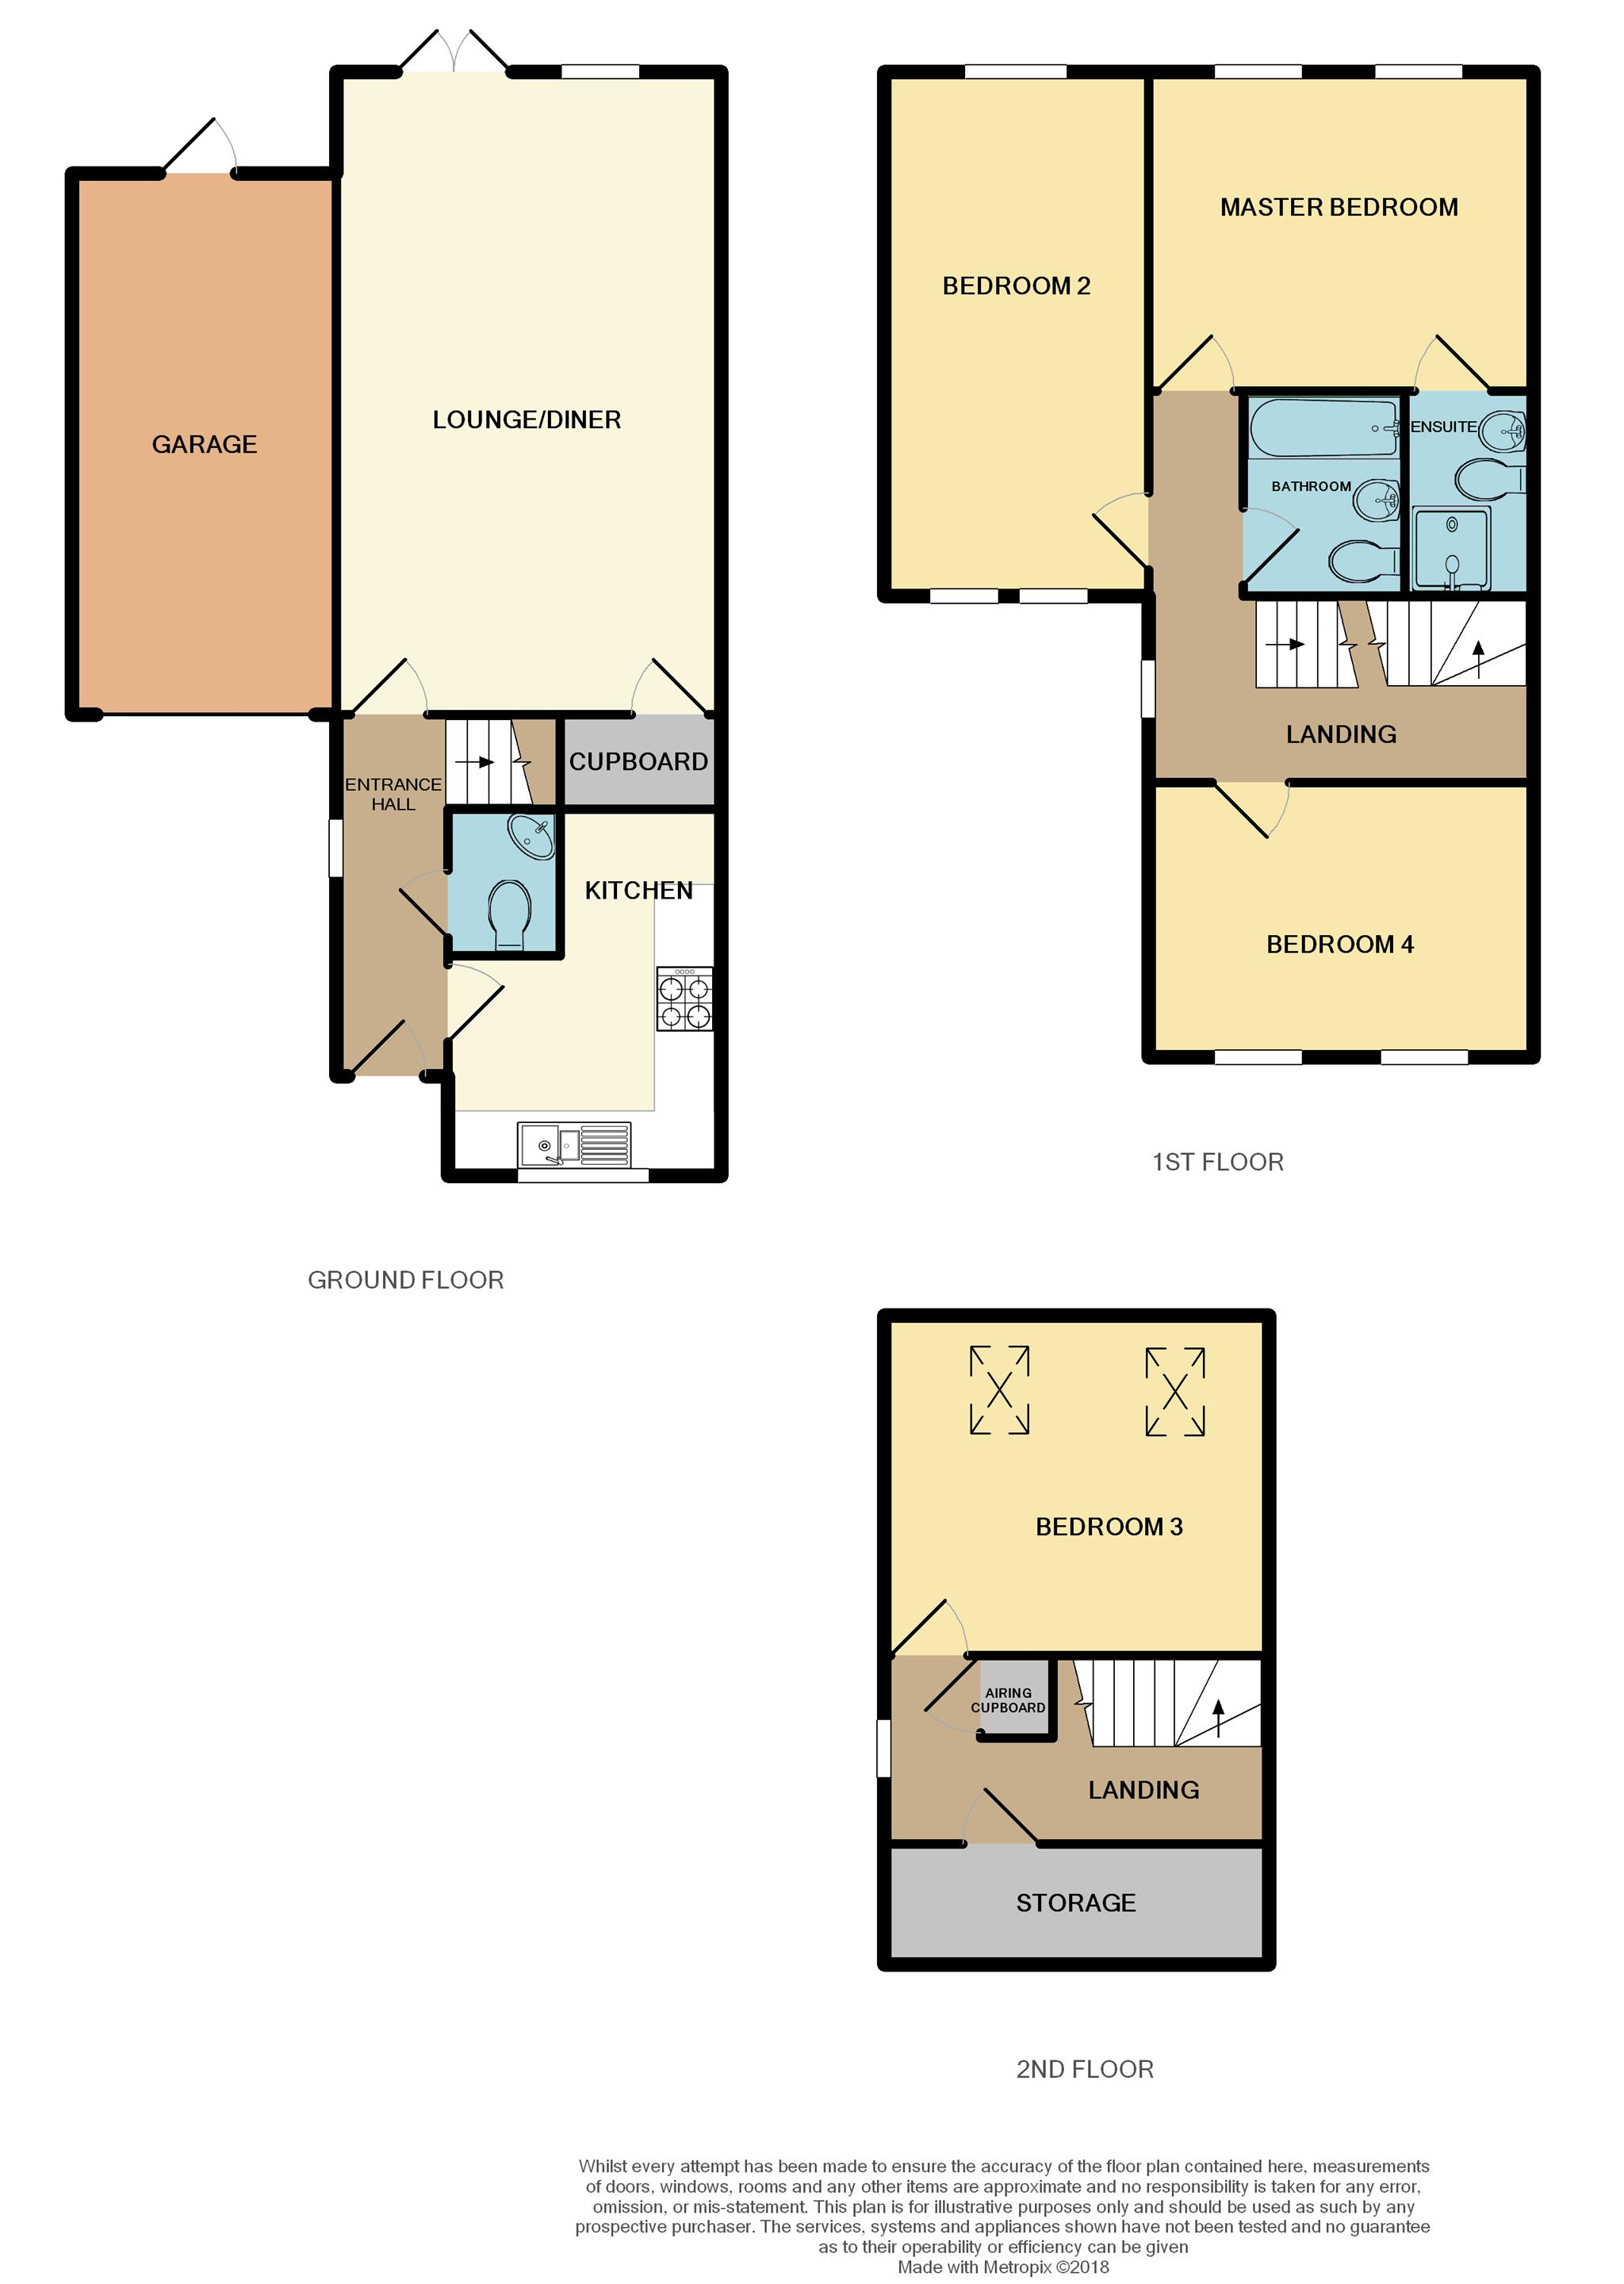door: (617, 652, 708, 712), (153, 109, 246, 165), (1076, 494, 1144, 567), (350, 654, 438, 708), (1158, 329, 1237, 387), (1246, 504, 1304, 582), (1216, 791, 1301, 843), (455, 958, 510, 1038), (406, 25, 494, 74), (1410, 332, 1492, 383), (896, 1597, 981, 1646)
